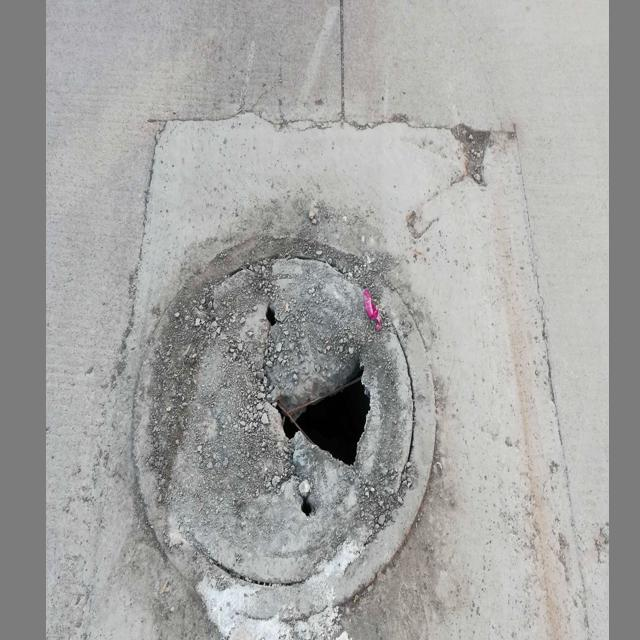broke: (130, 239, 436, 616)
